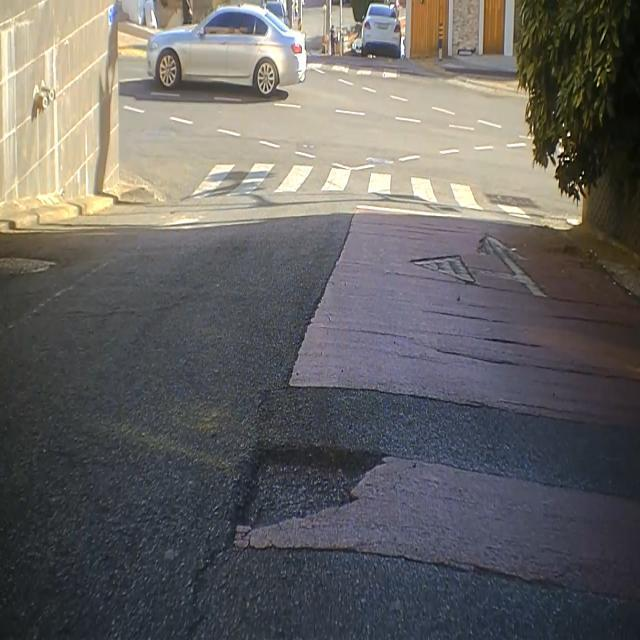pothole: (234, 430, 394, 553)
